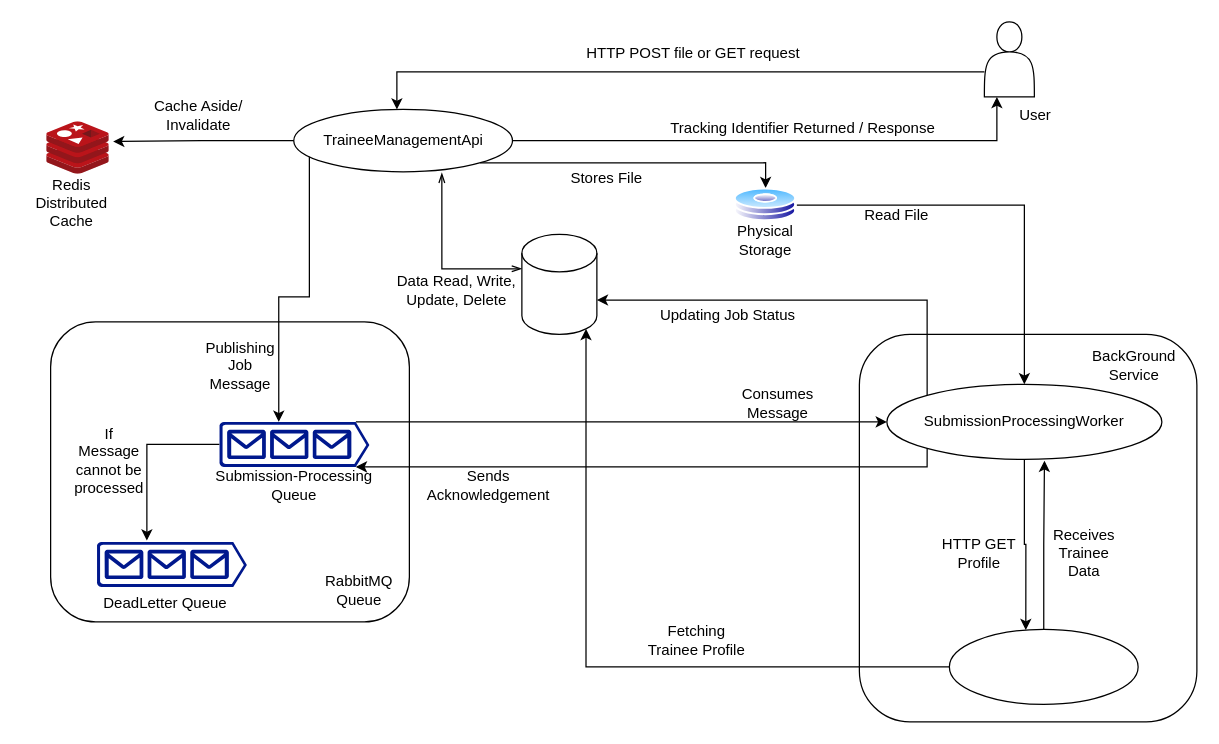
Image size: 1219x744. Some labels were removed from this diagram. Each missing label, with the centre of its shape:
"MySql DB" belongs at (x=559, y=283).
"TrainingDirectoryAPI (Internal service)" belongs at (x=1043, y=666).
